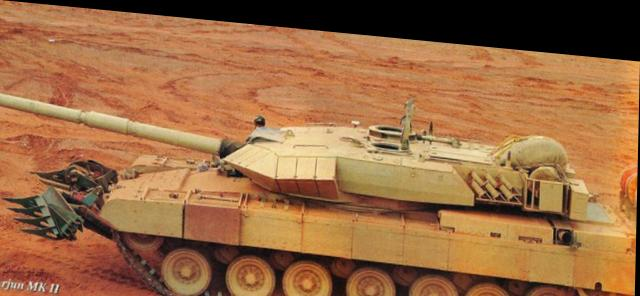tank: (102, 76, 638, 296)
